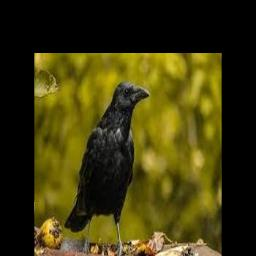Crow: (64, 80, 150, 254)
